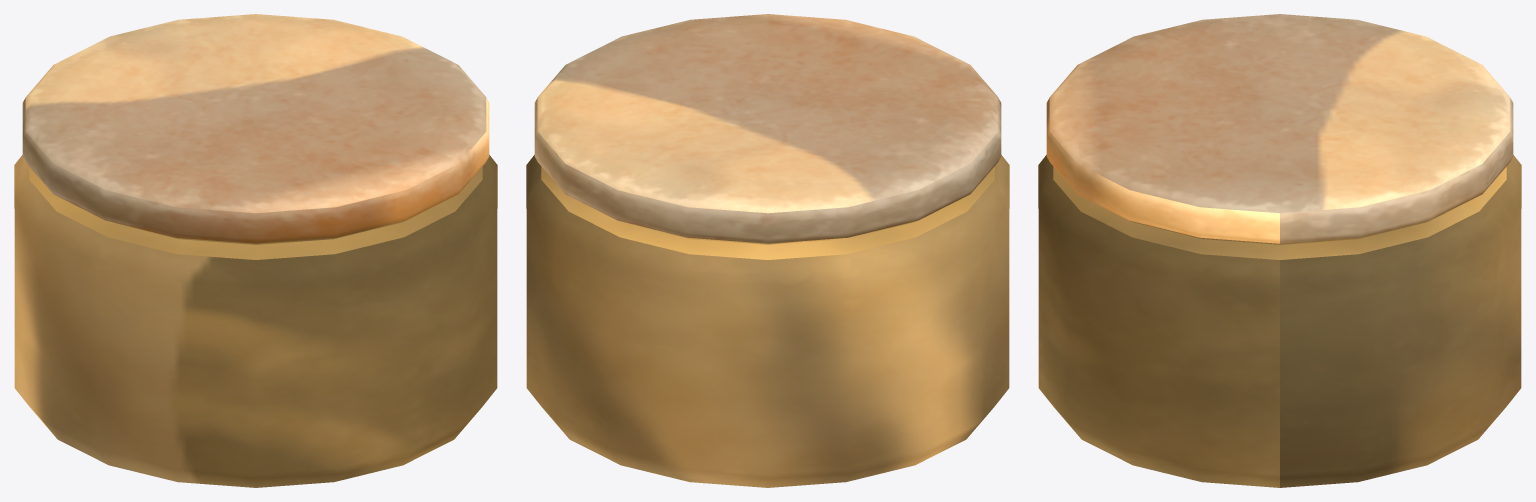
The model's file is SM_Pot1.fbx.
3 renders of one model, left to right at view 1: azimuth 30°, elevation 25°; view 2: azimuth 150°, elevation 25°; view 3: azimuth 270°, elevation 25°, orthographic.
Parts seen in each view (by area): view 1: SM_Pot1_LOD0; view 2: SM_Pot1_LOD0; view 3: SM_Pot1_LOD0.
Part boxes in pixels (bbox=[...]): SM_Pot1_LOD0: bbox=[14, 14, 497, 487]; SM_Pot1_LOD0: bbox=[526, 14, 1009, 487]; SM_Pot1_LOD0: bbox=[1038, 14, 1521, 487].
Bounding box in the file's own units: 12.27 × 12.08 × 8.27.
